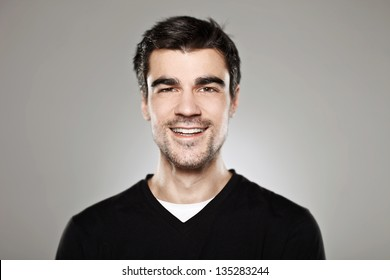NoMask: (151, 70, 228, 167)
